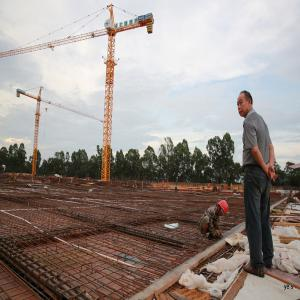none: (238, 91, 256, 120)
red: (216, 200, 230, 219)
